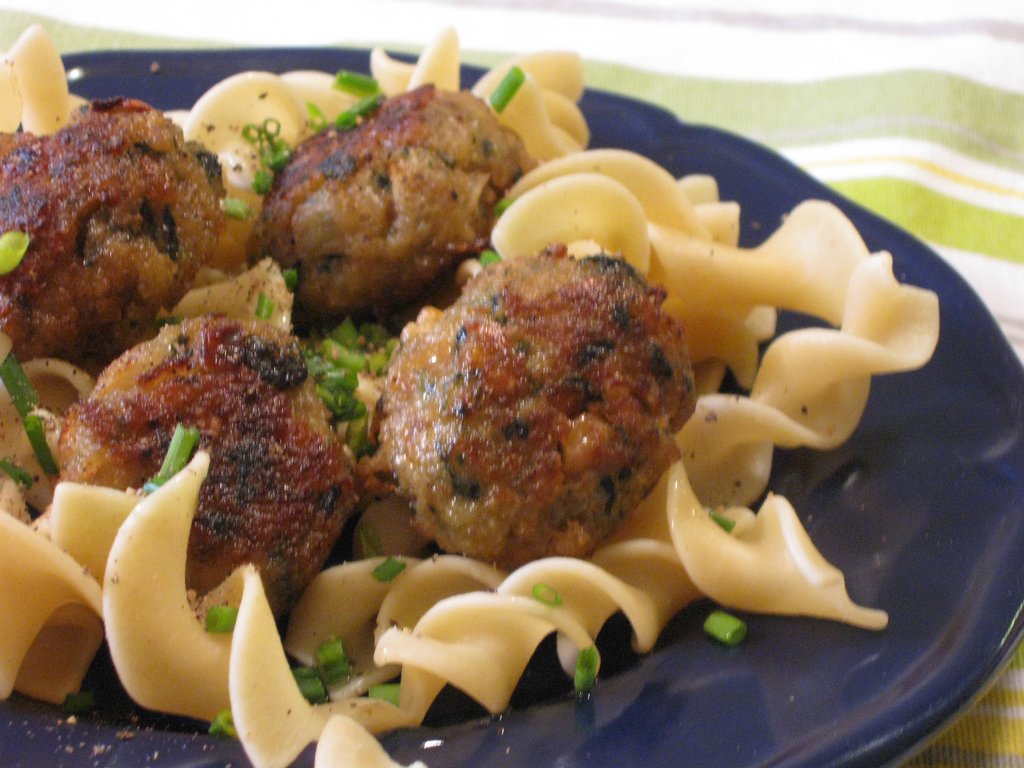meatballs: (363, 266, 688, 543), (68, 307, 324, 561), (11, 132, 229, 317)
